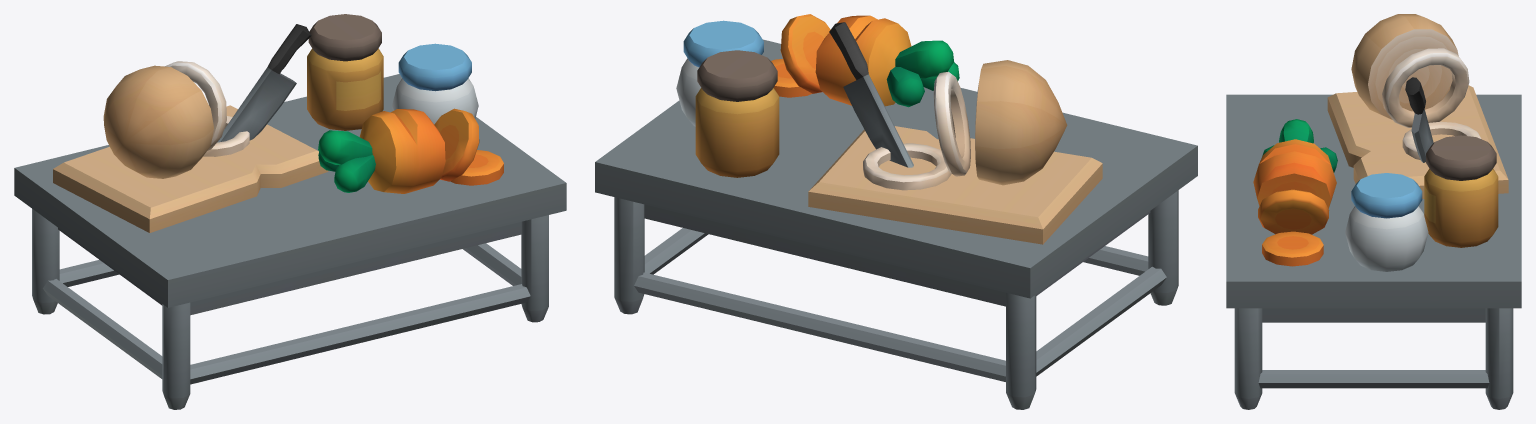
The model's file is kitchentable-a-large-decorated.glb.
3 renders of one model, left to right at view 1: azimuth 30°, elevation 25°; view 2: azimuth 150°, elevation 25°; view 3: azimuth 270°, elevation 25°, orthographic. The views are drawn at different scales.
Parts seen in each view (by area): view 1: kitchentable_A_large_decorated; view 2: kitchentable_A_large_decorated; view 3: kitchentable_A_large_decorated.
Boxes of the visible parts, <box> form: kitchentable_A_large_decorated: <box>14,14,566,409</box>; kitchentable_A_large_decorated: <box>595,14,1197,409</box>; kitchentable_A_large_decorated: <box>1226,14,1521,409</box>.
Bounding box in the file's own units: 3 × 1.93 × 2.
Materials: 1 (1 with a texture image).
